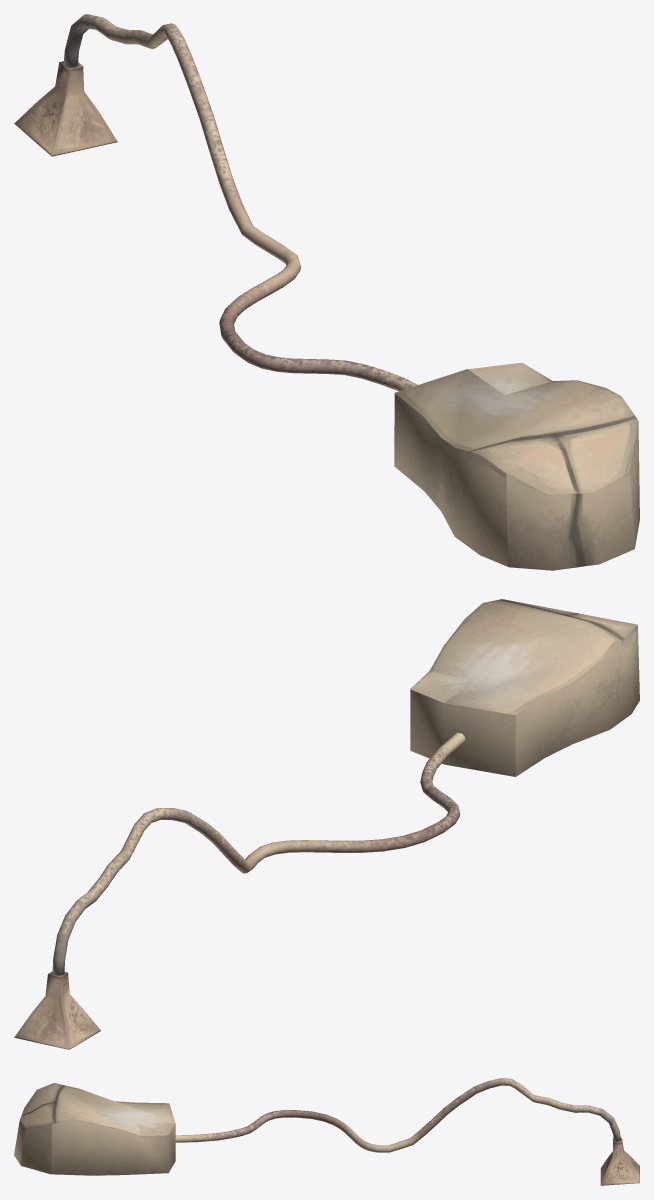
Rendered from Mouse.obj.
3 views of the same model, one above another, from view 1: azimuth 30°, elevation 25°; view 2: azimuth 150°, elevation 25°; view 3: azimuth 270°, elevation 25° (orthographic). The views are drawn at different scales.
Visible parts, largest first — view 1: Mouse; view 2: Mouse; view 3: Mouse.
Part boxes in pixels (x1,y1,x2,y2): Mouse: [14, 14, 639, 570]; Mouse: [14, 599, 639, 1049]; Mouse: [14, 1078, 639, 1185].
Size of the model in its own units: 0.1891 by 0.1893 by 1.09.
